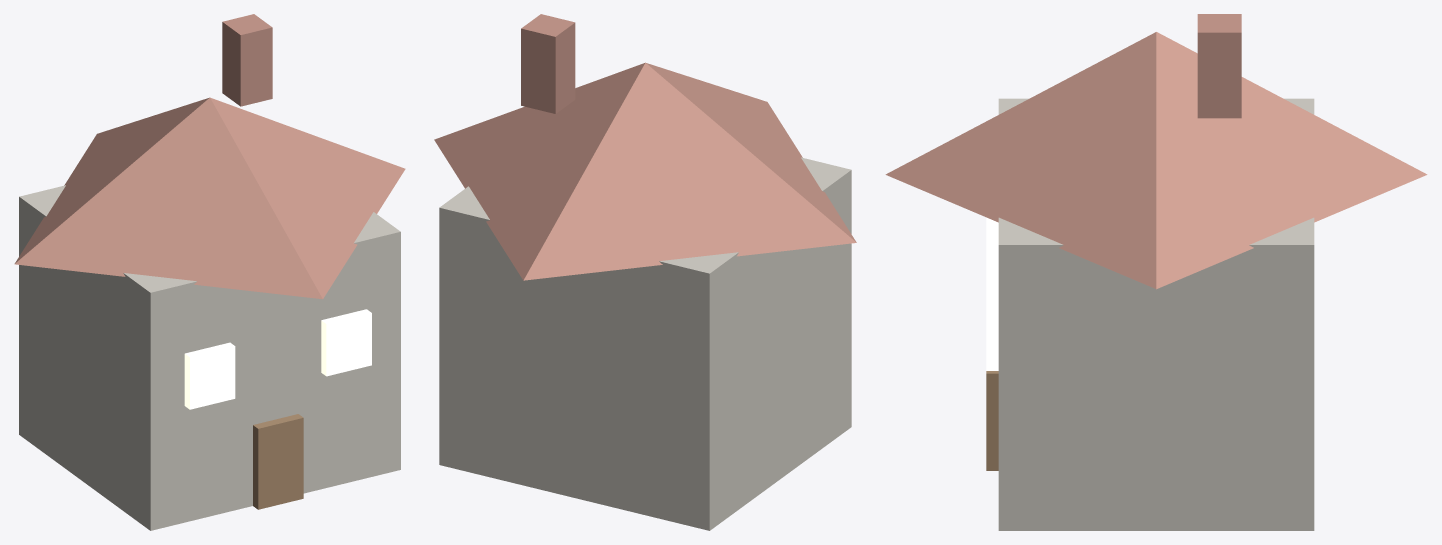
The model's file is house.glb.
The picture shows the model from 3 angles, left to right: view 1: azimuth 30°, elevation 25°; view 2: azimuth 150°, elevation 25°; view 3: azimuth 270°, elevation 25°; orthographic projection. The views are drawn at different scales.
Parts seen in each view (by area): view 1: MetroHouse; view 2: MetroHouse; view 3: MetroHouse.
Boxes of the visible parts, left/top/right/bottom form: MetroHouse: left=14, top=14, right=405, bottom=530; MetroHouse: left=434, top=14, right=856, bottom=530; MetroHouse: left=885, top=14, right=1427, bottom=530.
Size of the model in its own units: 1.72 by 1.65 by 1.72.
